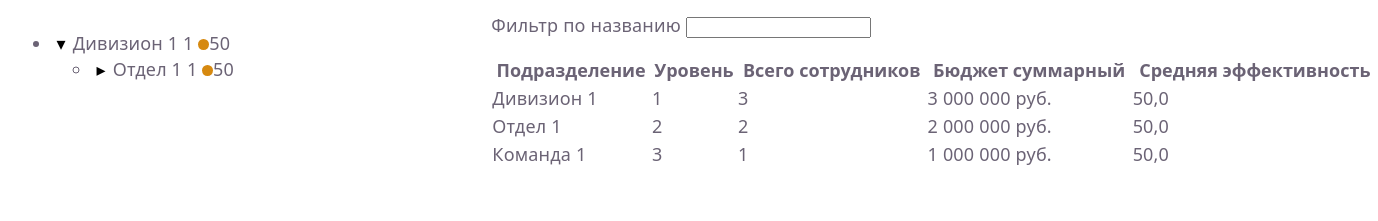
Scenario: OrgTreeScreen: компоновка по ширине › AC-002-2: раскрытие ветвей дерева сохраняется после смены вида и перехода ширины через 1280px
Click the button named "Развернуть Отдел 1".
click(101, 69)  # box [96, 56, 106, 82]
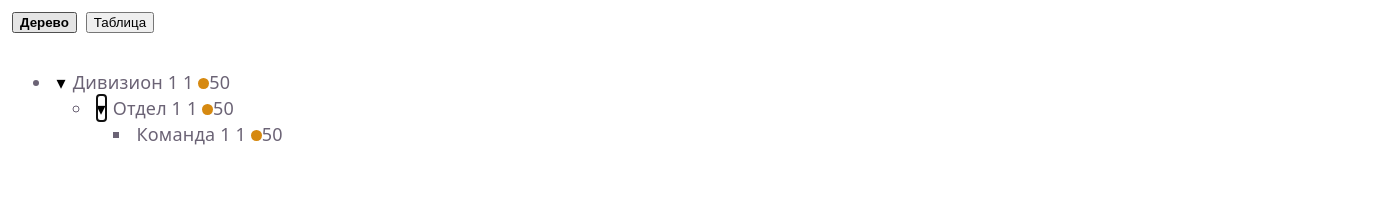
Expected: the text "Команда 1" is shown, [136, 122, 231, 146]
Click the button "Таблица".
click(120, 22)  # box [86, 12, 154, 33]
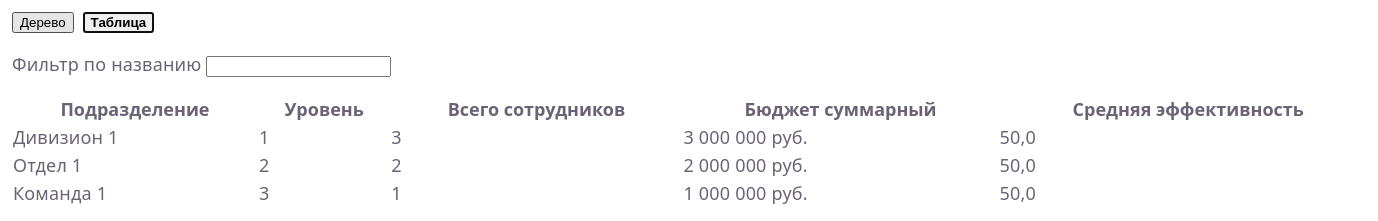
Click the button "Дерево".
click(43, 22)  # box [12, 12, 74, 33]
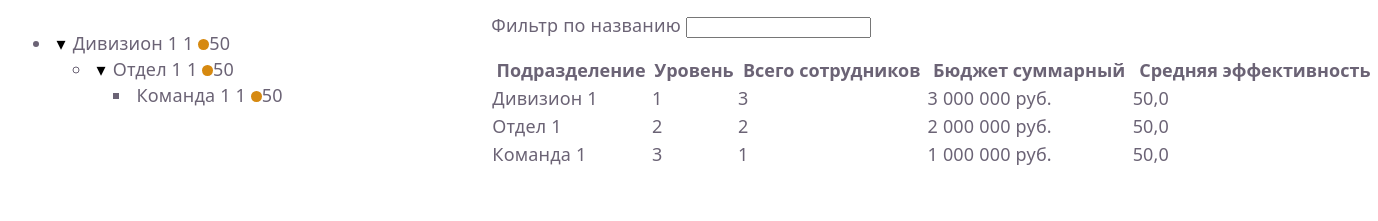
Expected: the button named "Свернуть Отдел 1" is shown, [96, 56, 106, 82]
Expected: the text "Команда 1" is shown, [136, 83, 231, 107]
